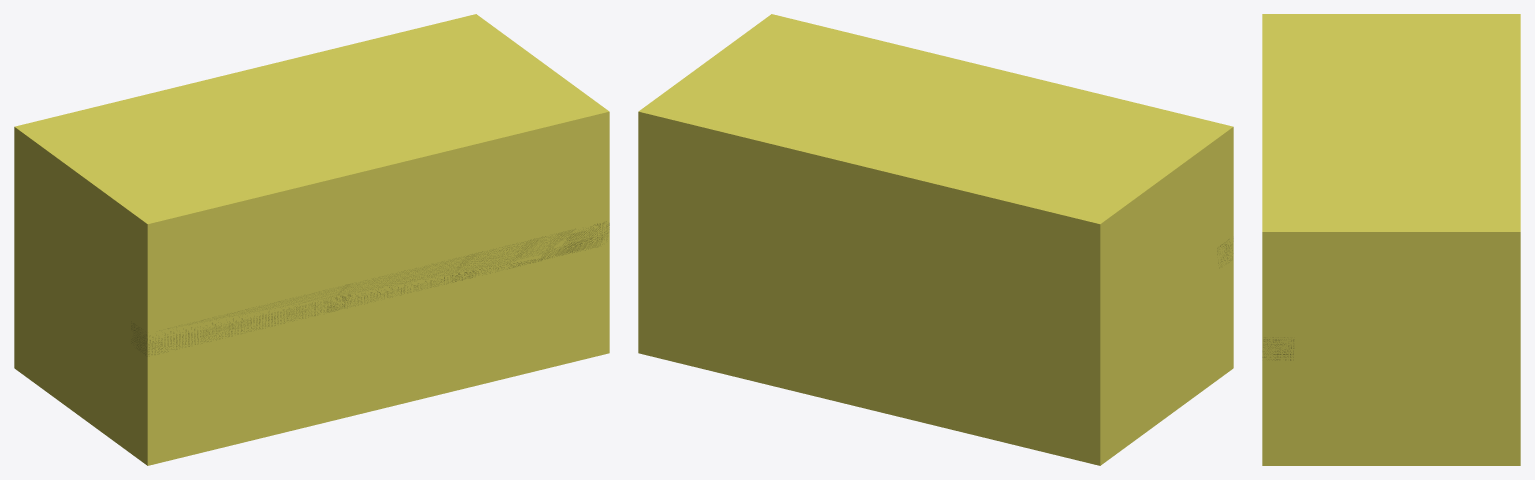
Rendered from box_2_closed.dae.
The picture shows the model from 3 angles, left to right: view 1: azimuth 30°, elevation 25°; view 2: azimuth 150°, elevation 25°; view 3: azimuth 270°, elevation 25°; orthographic projection. The views are drawn at different scales.
Parts seen in each view (by area): view 1: coords_ME_ID13_MA_material_27, coords_ME_ID3_MA_material_27, coords_ME_ID3_MA_material_28; view 2: coords_ME_ID13_MA_material_27; view 3: coords_ME_ID13_MA_material_27, coords_ME_ID3_MA_material_27.
Boxes of the visible parts, left/top/right/bottom form: coords_ME_ID13_MA_material_27: left=14, top=14, right=609, bottom=465; coords_ME_ID3_MA_material_27: left=131, top=220, right=609, bottom=356; coords_ME_ID3_MA_material_28: left=131, top=221, right=609, bottom=356; coords_ME_ID13_MA_material_27: left=638, top=14, right=1233, bottom=465; coords_ME_ID13_MA_material_27: left=1262, top=14, right=1520, bottom=465; coords_ME_ID3_MA_material_27: left=1262, top=337, right=1294, bottom=360.
Bounding box in the file's own units: 9.45 × 4.72 × 4.72.
